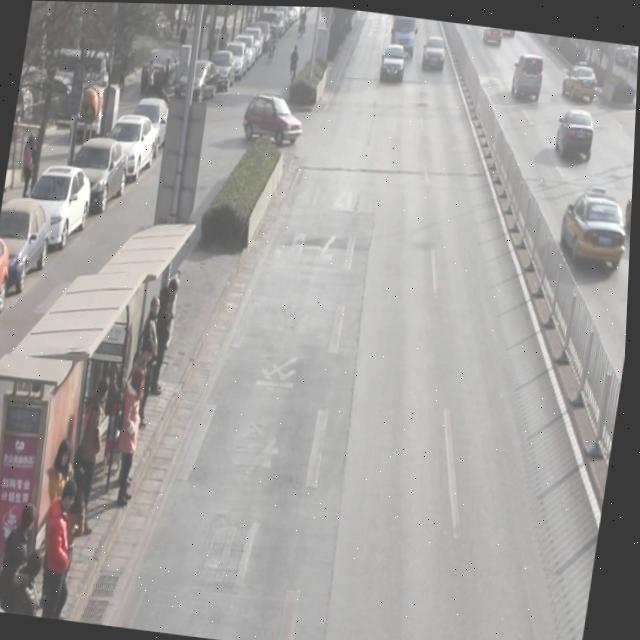bus: (389, 13, 421, 56)
car: (557, 177, 634, 270), (242, 88, 309, 146), (554, 103, 600, 163), (561, 55, 603, 101), (511, 49, 547, 99), (379, 41, 409, 83), (420, 31, 449, 71), (624, 168, 635, 236), (482, 24, 503, 45), (497, 26, 516, 34)
